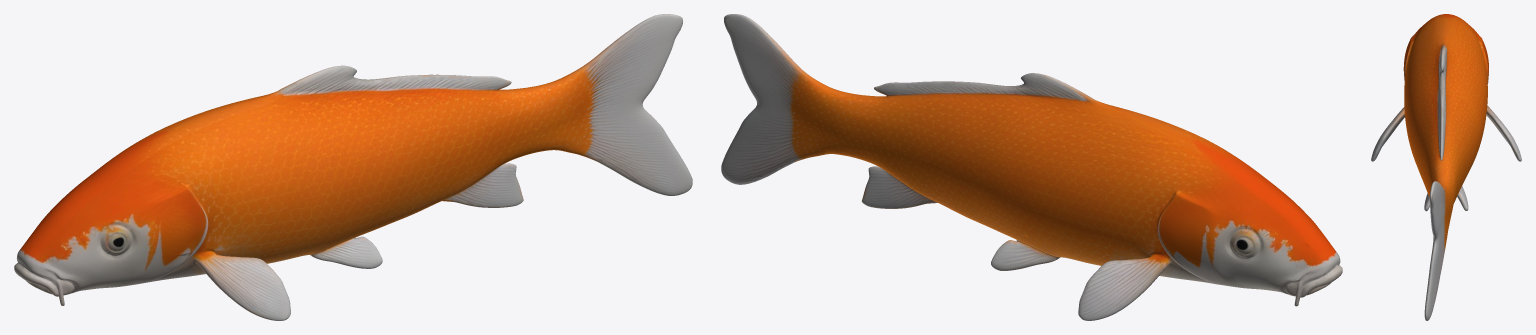
File: koi2.glb
3 renders of one model, left to right at view 1: azimuth 30°, elevation 25°; view 2: azimuth 150°, elevation 25°; view 3: azimuth 270°, elevation 25°, orthographic. The views are drawn at different scales.
Parts seen in each view (by area): view 1: material; view 2: material; view 3: material.
Boxes of the visible parts, x1,y1,x2,y2 form: material: [14, 14, 692, 320]; material: [721, 14, 1342, 320]; material: [1371, 14, 1521, 320].
Bounding box in the file's own units: 1.16 × 0.339 × 0.317.
1 material, 1 textured.
